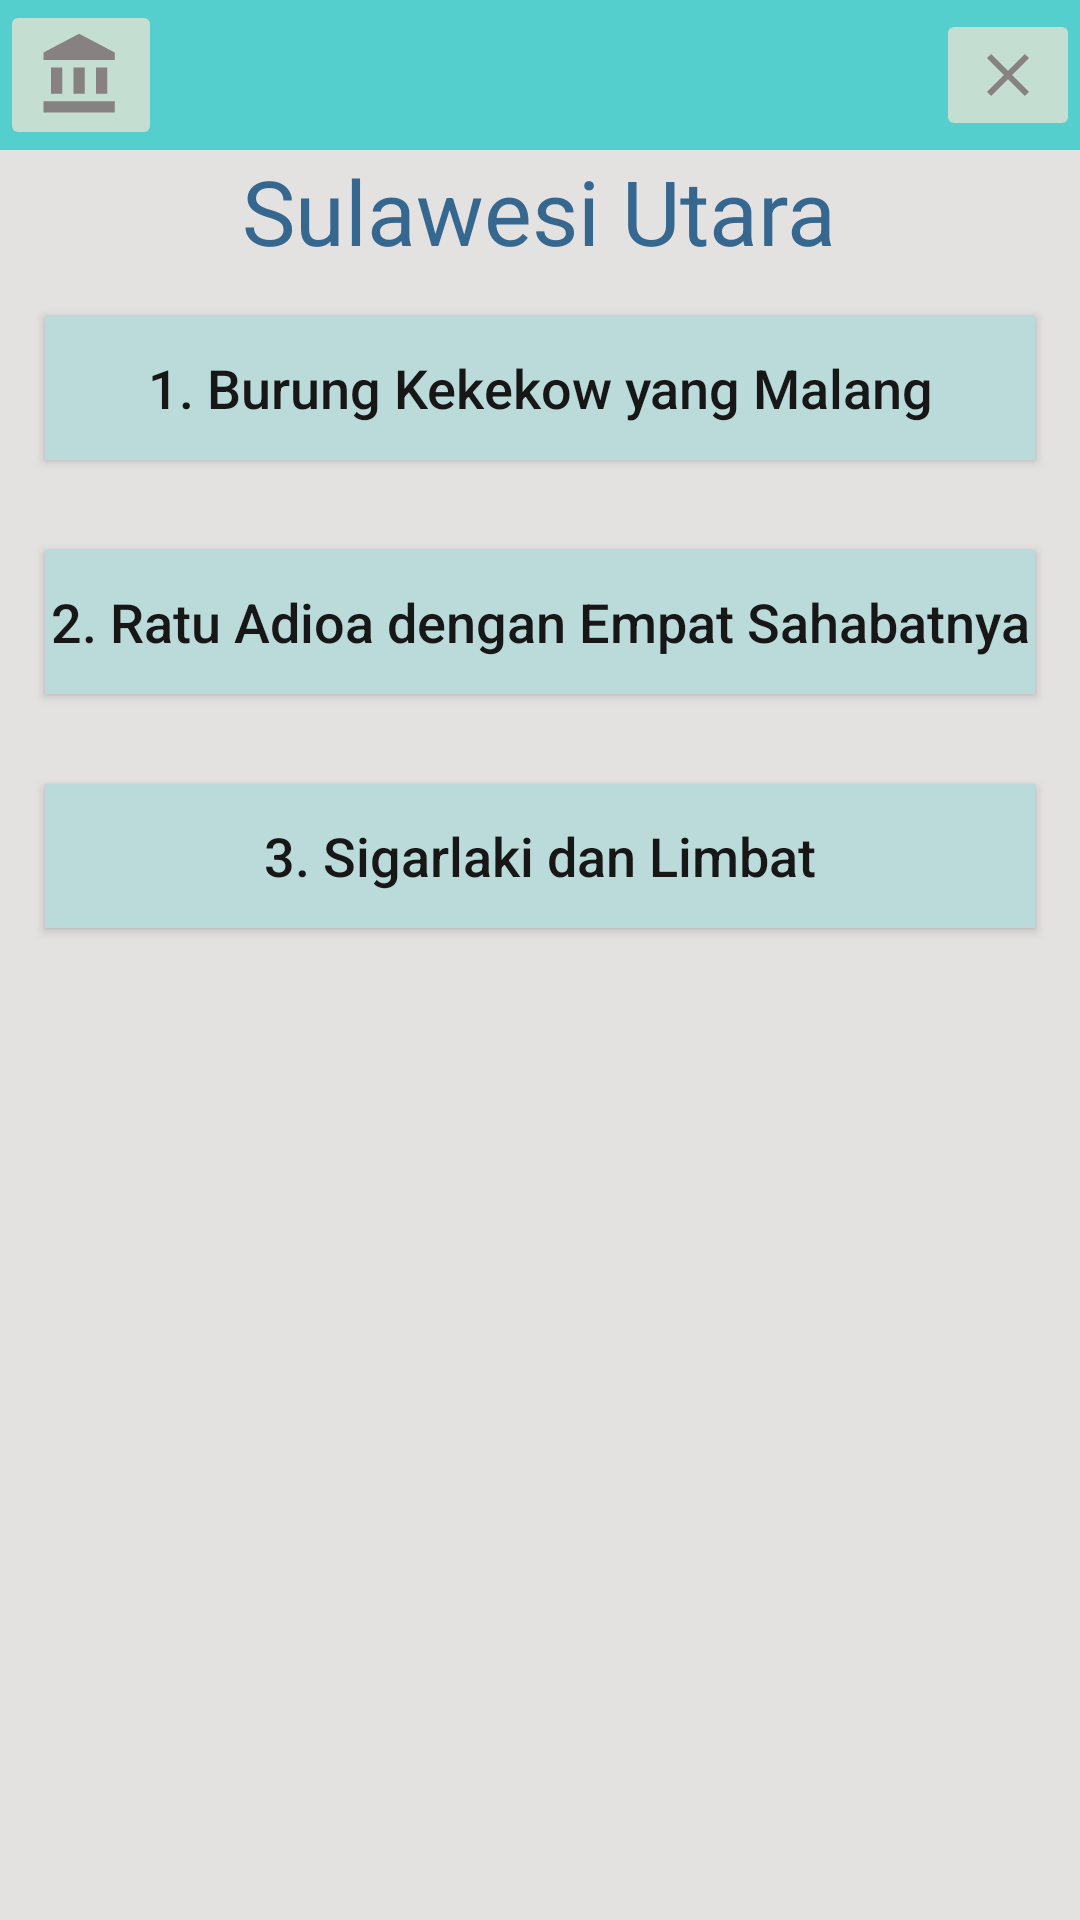

Icon click points for this 1080 × 1920 phone screenshot, format [x,y]:
account balance: [81,75]
close: [1008,75]
